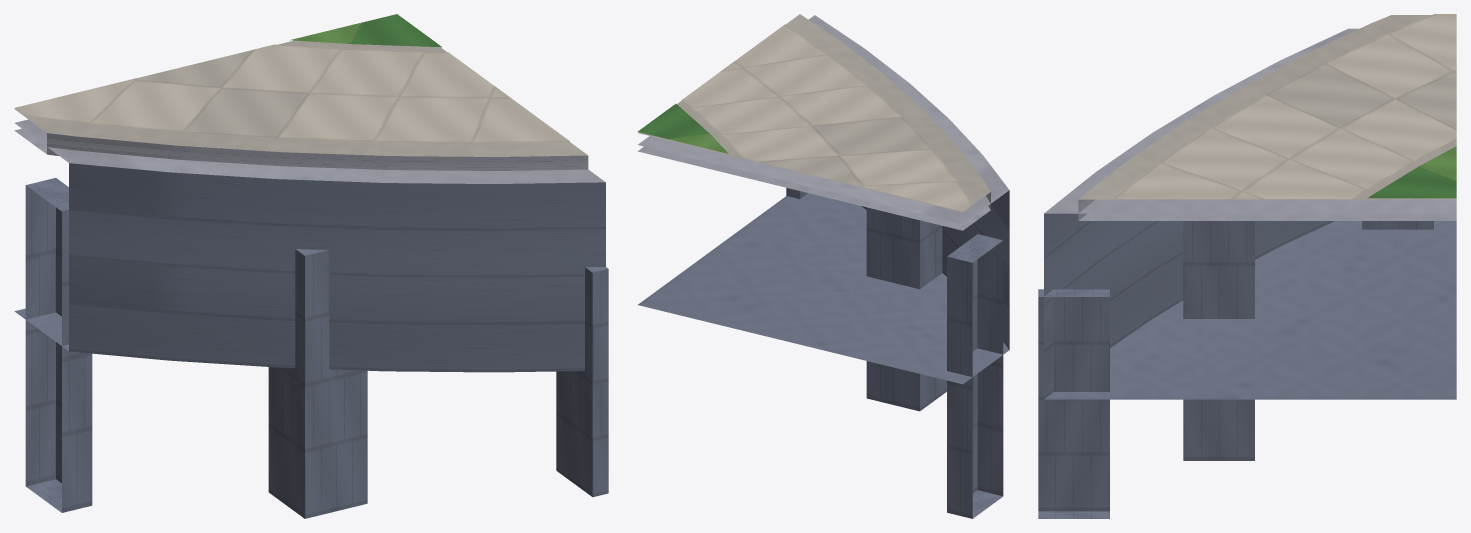
File: high_crown_fracture_14.obj
3 renders of one model, left to right at view 1: azimuth 30°, elevation 25°; view 2: azimuth 150°, elevation 25°; view 3: azimuth 270°, elevation 25°, orthographic. The views are drawn at different scales.
Visible parts, largest first — view 1: ArenaFracture14; view 2: ArenaFracture14; view 3: ArenaFracture14.
Boxes of the visible parts, x1,y1,x2,y2 form: ArenaFracture14: (14,14,608,518); ArenaFracture14: (637,14,1009,518); ArenaFracture14: (1038,14,1456,518).
Bounding box in the file's own units: 10 × 9.25 × 9.57.
Materials: 6 (6 with a texture image).
